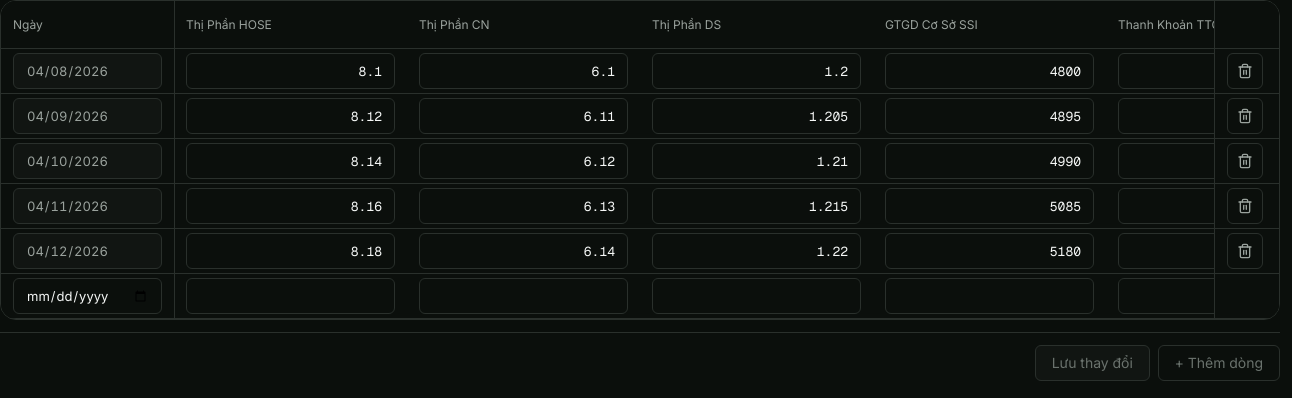
it: DataGrid › enables explicit add-row action after date and numeric draft
Expected: the button "+ Thêm dòng" is disabled, [1158, 345, 1280, 381]
Type "2026-05-09" into the date field with test id "cell-__new__-ngay".
click(88, 296); type("2026-05-09")  # box [13, 278, 162, 314]
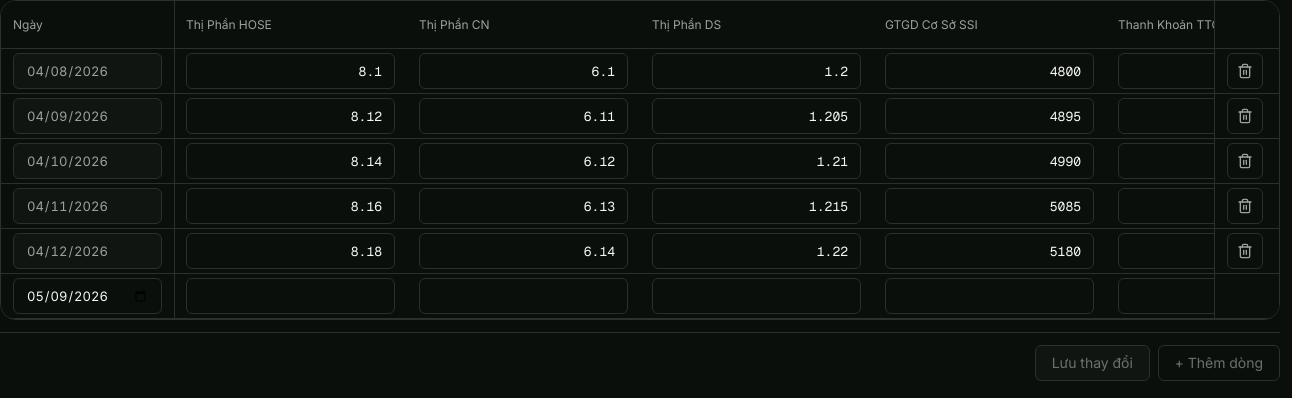
Type "5300" into the field with test id "cell-__new__-gtgd_cs_ssi".
click(990, 296); type("5300")  # box [885, 278, 1094, 314]
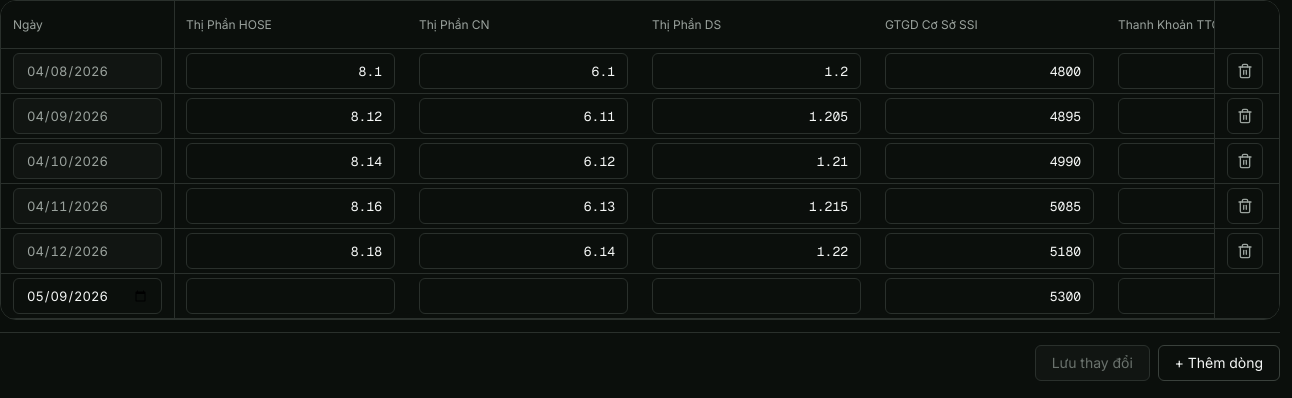
Click the button "+ Thêm dòng".
click(1219, 363)  # box [1158, 345, 1280, 381]
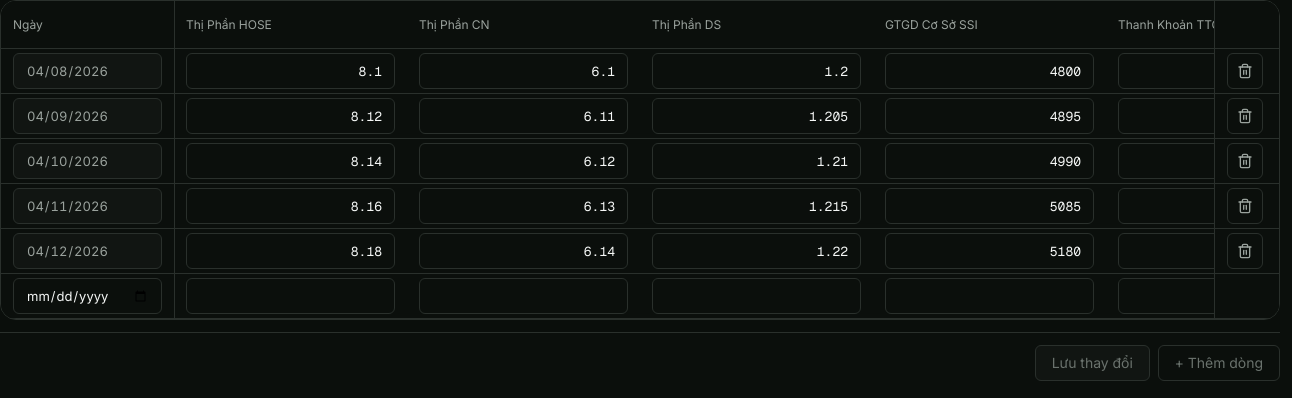
Expected: the button "+ Thêm dòng" is disabled, [1158, 345, 1280, 381]
